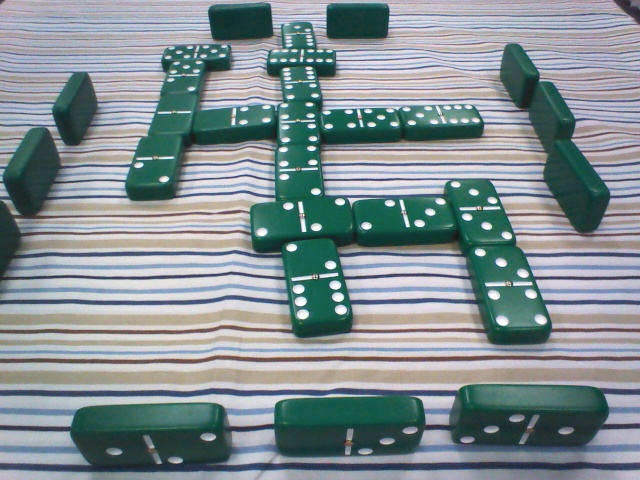B: (460, 242, 561, 346), (275, 236, 359, 331), (247, 188, 356, 243), (441, 176, 520, 246), (348, 190, 454, 241), (397, 99, 489, 142), (317, 100, 402, 144), (126, 133, 179, 195), (269, 143, 331, 196), (187, 102, 278, 137), (271, 99, 323, 149), (158, 39, 235, 70), (264, 44, 342, 74), (143, 95, 196, 139), (272, 64, 326, 103), (160, 63, 203, 97), (276, 20, 319, 50)
C: (7, 130, 64, 218), (47, 70, 105, 145), (1, 200, 23, 279)
D: (535, 137, 613, 240), (522, 80, 579, 147), (494, 40, 539, 114)
E: (446, 380, 607, 457), (71, 396, 233, 468), (260, 396, 429, 457)
F: (320, 3, 395, 39), (208, 3, 276, 42)
